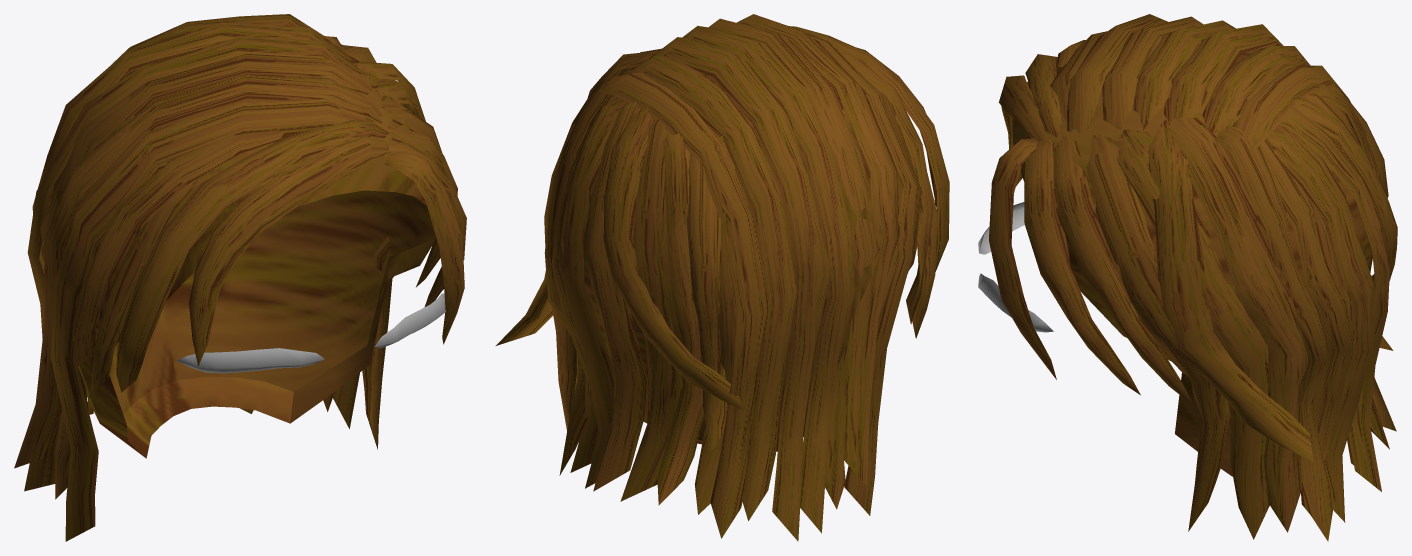
The model's file is Dede_Hair.fbx.
3 renders of one model, left to right at view 1: azimuth 30°, elevation 25°; view 2: azimuth 150°, elevation 25°; view 3: azimuth 270°, elevation 25°, orthographic. The views are drawn at different scales.
Visible parts, largest first — view 1: SkullCap1; view 2: SkullCap1; view 3: SkullCap1.
Part boxes in pixels (left/top/right/bottom): SkullCap1: left=14, top=14, right=466, bottom=541; SkullCap1: left=496, top=14, right=949, bottom=541; SkullCap1: left=978, top=14, right=1397, bottom=541.
Size of the model in its own units: 0.1907 by 0.2209 by 0.1808.
